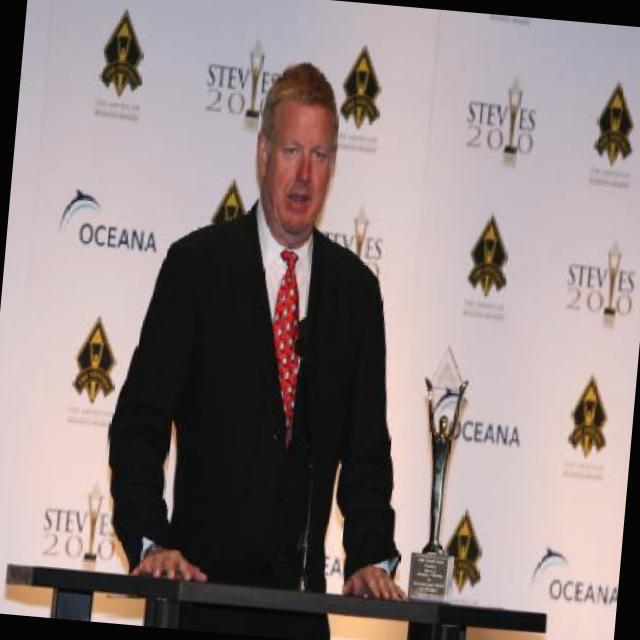Person: (108, 68, 426, 614)
